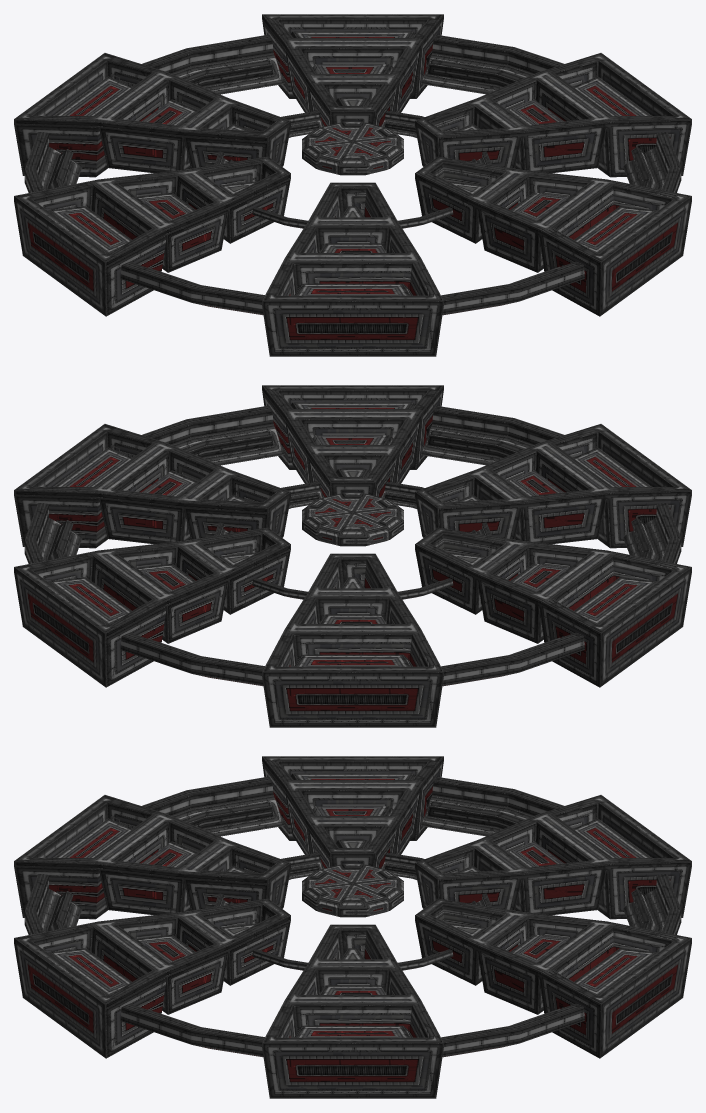
File: UTAW_CircularTargetPracticeGrounds.FBX
3 views of the same model, one above another, from view 1: azimuth 30°, elevation 25°; view 2: azimuth 150°, elevation 25°; view 3: azimuth 270°, elevation 25° (orthographic).
Parts seen in each view (by area): view 1: OuterTargetPlatform, CentralPlatform, TargetPlatform003, TargetPlatform015, TargetPlatform018, TargetPlatform006, TargetPlatform012, TargetPlatform002, TargetPlatform014, TargetPlatform009, TargetPlatform005, TargetPlatform011 (+2 smaller); view 2: OuterTargetPlatform, CentralPlatform, TargetPlatform009, TargetPlatform015, TargetPlatform012, TargetPlatform006, TargetPlatform018, TargetPlatform008, TargetPlatform014, TargetPlatform003, TargetPlatform005, TargetPlatform017 (+2 smaller); view 3: OuterTargetPlatform, CentralPlatform, TargetPlatform003, TargetPlatform009, TargetPlatform006, TargetPlatform012, TargetPlatform018, TargetPlatform002, TargetPlatform008, TargetPlatform015, TargetPlatform011, TargetPlatform017 (+2 smaller).
Part boxes in pixels (left/top/right/bottom): OuterTargetPlatform: left=14, top=14, right=691, bottom=356; CentralPlatform: left=302, top=121, right=403, bottom=175; TargetPlatform003: left=574, top=206, right=657, bottom=254; TargetPlatform015: left=48, top=206, right=131, bottom=254; TargetPlatform018: left=294, top=283, right=411, bottom=295; TargetPlatform006: left=573, top=76, right=651, bottom=115; TargetPlatform012: left=54, top=76, right=132, bottom=115; TargetPlatform002: left=510, top=192, right=569, bottom=220; TargetPlatform014: left=136, top=192, right=195, bottom=220; TargetPlatform009: left=291, top=31, right=414, bottom=37; TargetPlatform005: left=508, top=99, right=563, bottom=125; TargetPlatform011: left=142, top=99, right=197, bottom=125; OuterTargetPlatform: left=14, top=385, right=691, bottom=727; CentralPlatform: left=302, top=492, right=403, bottom=546; TargetPlatform009: left=48, top=577, right=131, bottom=625; TargetPlatform015: left=574, top=577, right=657, bottom=625; TargetPlatform012: left=294, top=654, right=411, bottom=666; TargetPlatform006: left=54, top=447, right=132, bottom=486; TargetPlatform018: left=573, top=447, right=651, bottom=486; TargetPlatform008: left=136, top=563, right=195, bottom=591; TargetPlatform014: left=510, top=563, right=569, bottom=591; TargetPlatform003: left=291, top=402, right=414, bottom=408; TargetPlatform005: left=142, top=470, right=197, bottom=496; TargetPlatform017: left=508, top=470, right=563, bottom=496; OuterTargetPlatform: left=14, top=756, right=691, bottom=1098; CentralPlatform: left=302, top=863, right=403, bottom=917; TargetPlatform003: left=48, top=948, right=131, bottom=996; TargetPlatform009: left=574, top=948, right=657, bottom=996; TargetPlatform006: left=294, top=1025, right=411, bottom=1037; TargetPlatform012: left=573, top=818, right=651, bottom=857; TargetPlatform018: left=54, top=818, right=132, bottom=857; TargetPlatform002: left=136, top=934, right=195, bottom=962; TargetPlatform008: left=510, top=934, right=569, bottom=962; TargetPlatform015: left=291, top=773, right=414, bottom=779; TargetPlatform011: left=508, top=841, right=563, bottom=867; TargetPlatform017: left=142, top=841, right=197, bottom=867.
Size of the model in its own units: 5796 by 714 by 5796.
1 material, 1 textured.
